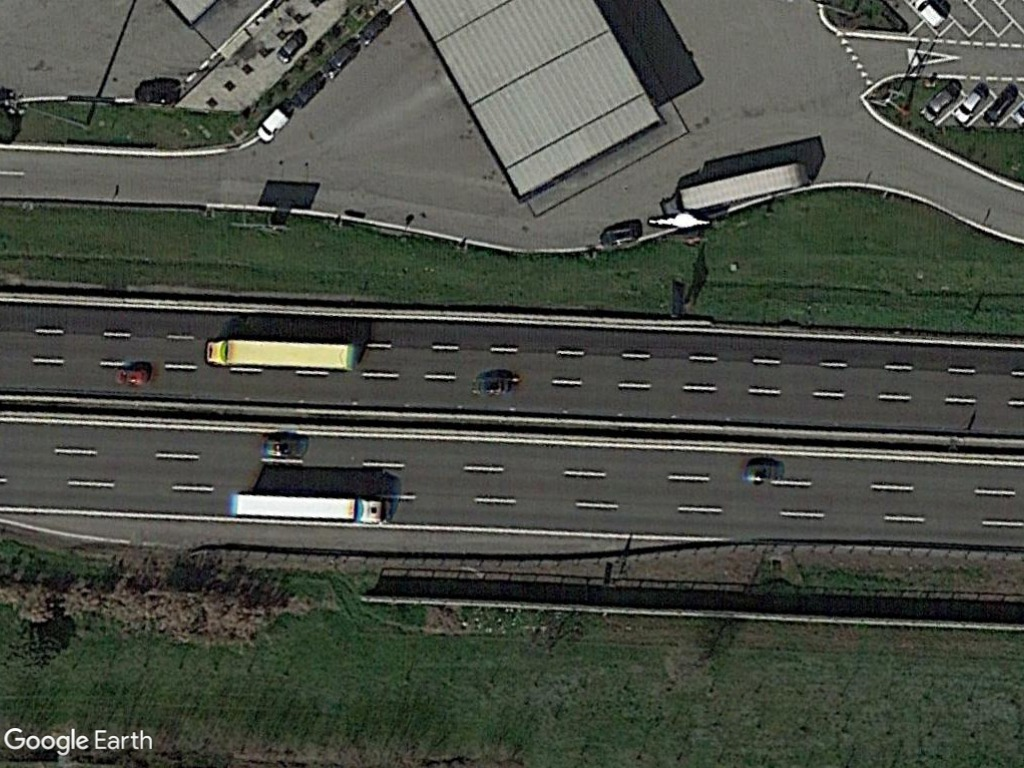car: (272, 24, 311, 65)
longvehicle: (658, 156, 811, 220), (230, 488, 396, 528), (201, 336, 360, 373)
van: (254, 105, 290, 142)
